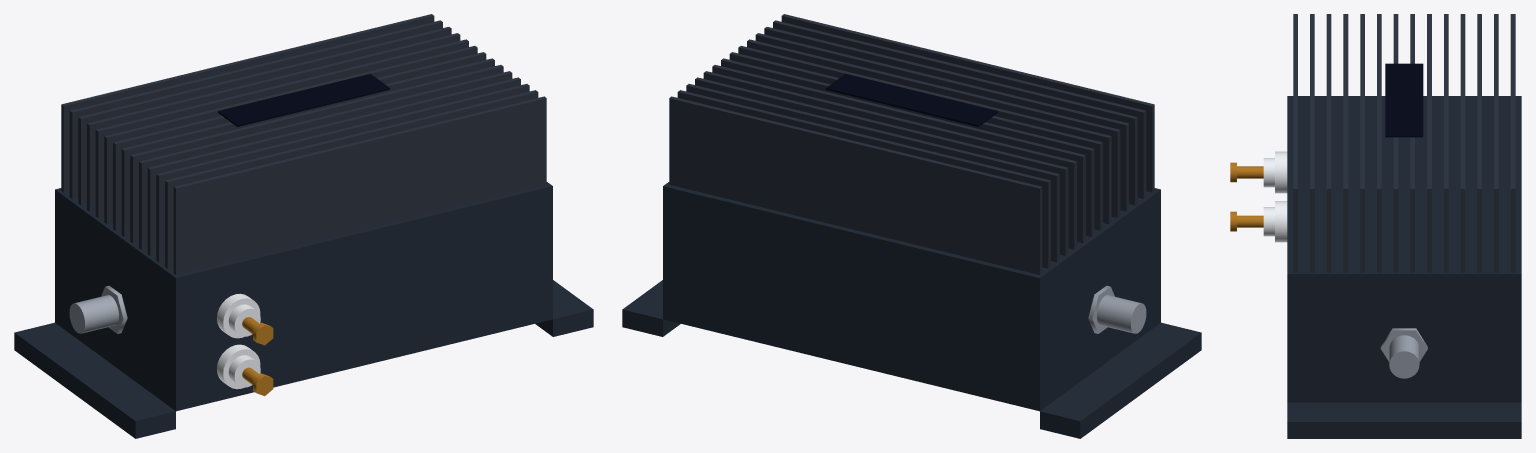
File: minicircuits_zhl_1_2w_plus.glb
3 views of the same model, side by side, from view 1: azimuth 30°, elevation 25°; view 2: azimuth 150°, elevation 25°; view 3: azimuth 270°, elevation 25° (orthographic). The views are drawn at different scales.
Bounding box in the file's own units: 108 × 53.9 × 61.5.
